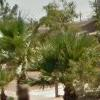Tree: (26, 4, 98, 80)
